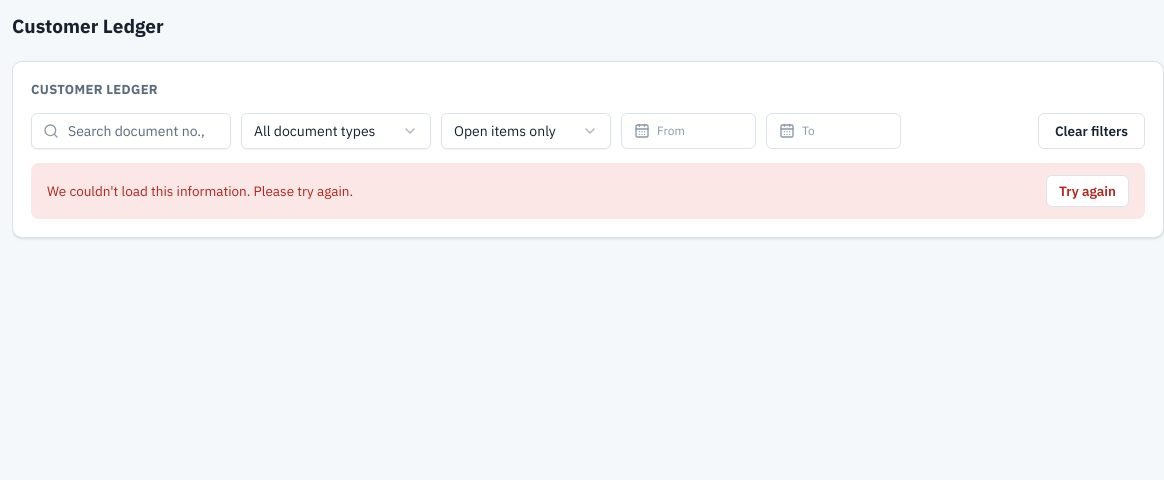
Test: a failed load shows the error and Try again reloads
Check: the message shows "We couldn't load this information. Please try again.", box [47, 182, 353, 200]
Click the button "Try again".
click(1088, 191)  # box [1046, 175, 1129, 207]
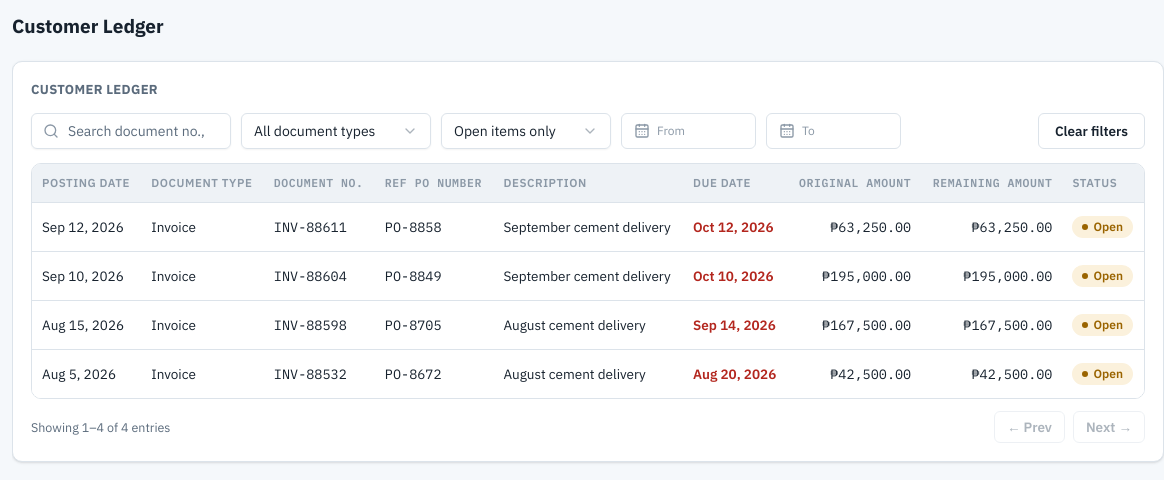
Check: the row "INV-88611" is shown, box [32, 203, 1144, 252]
